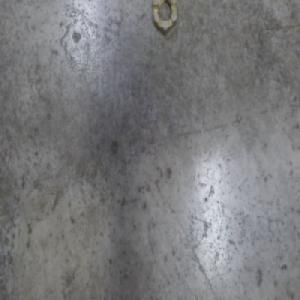Nut: (151, 0, 177, 39)
